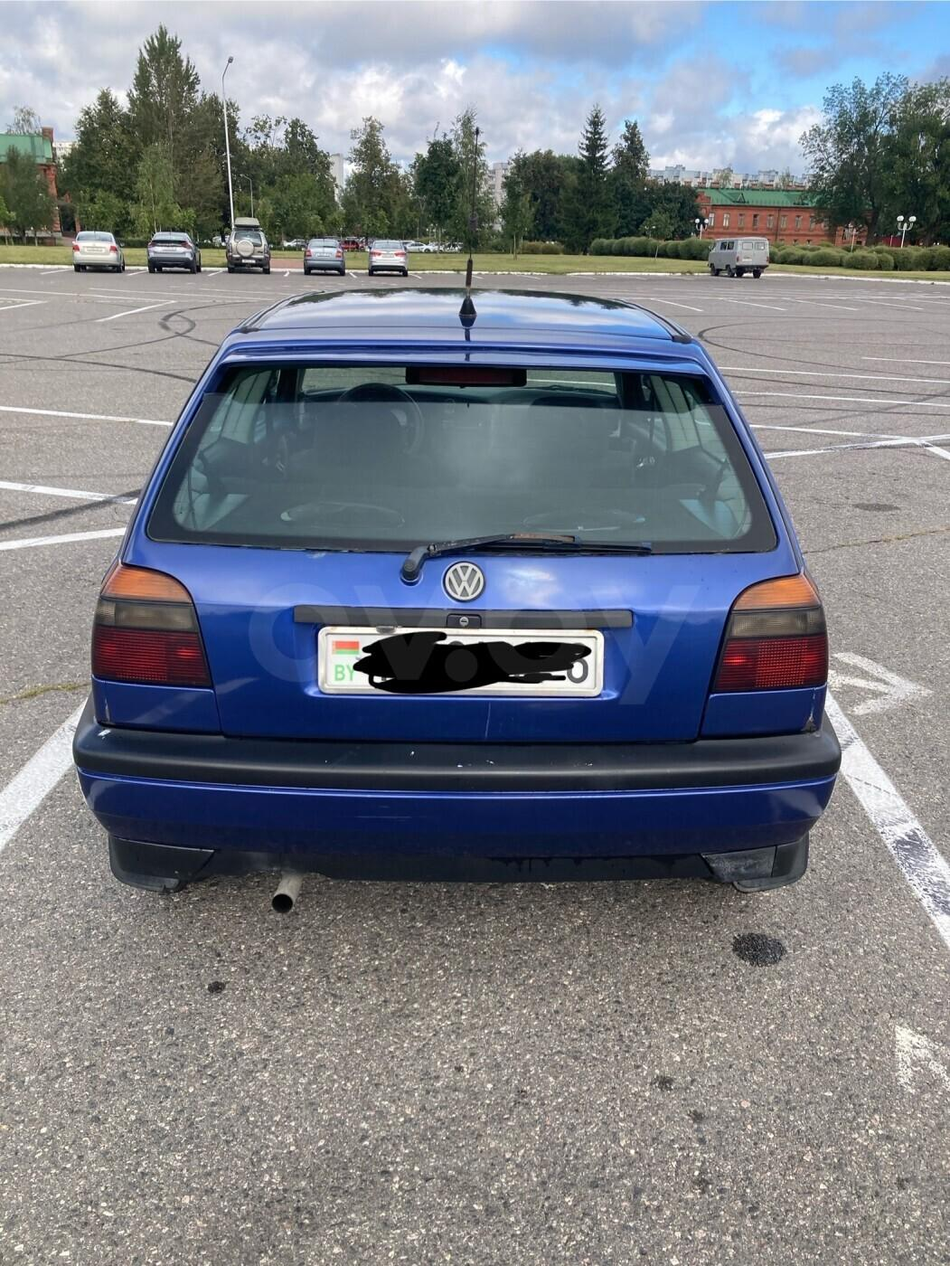Golf_1991-2000: (68, 285, 843, 901)
